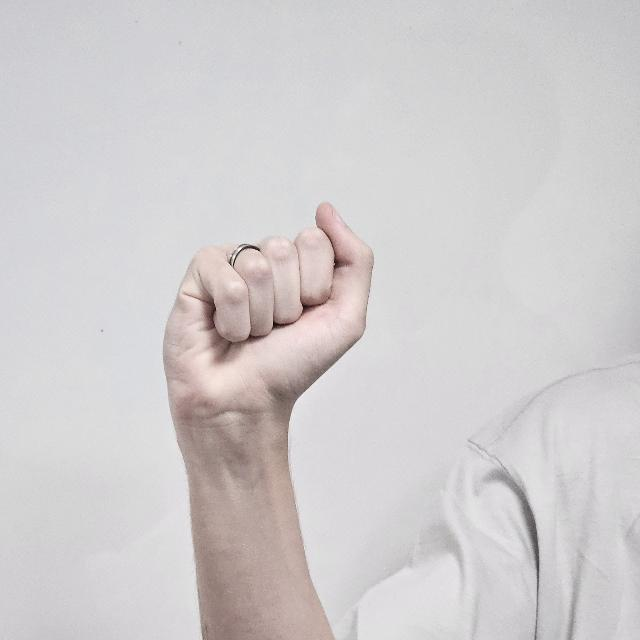Quadro: (161, 196, 373, 440)
